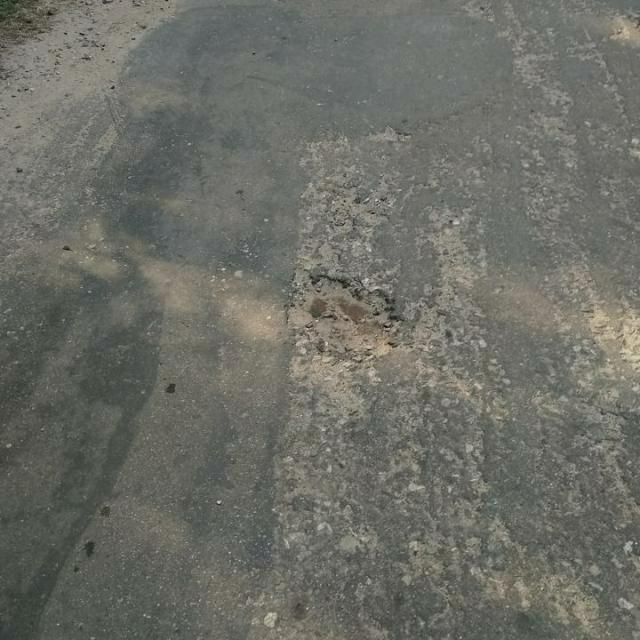Pothole: (284, 264, 413, 368)
